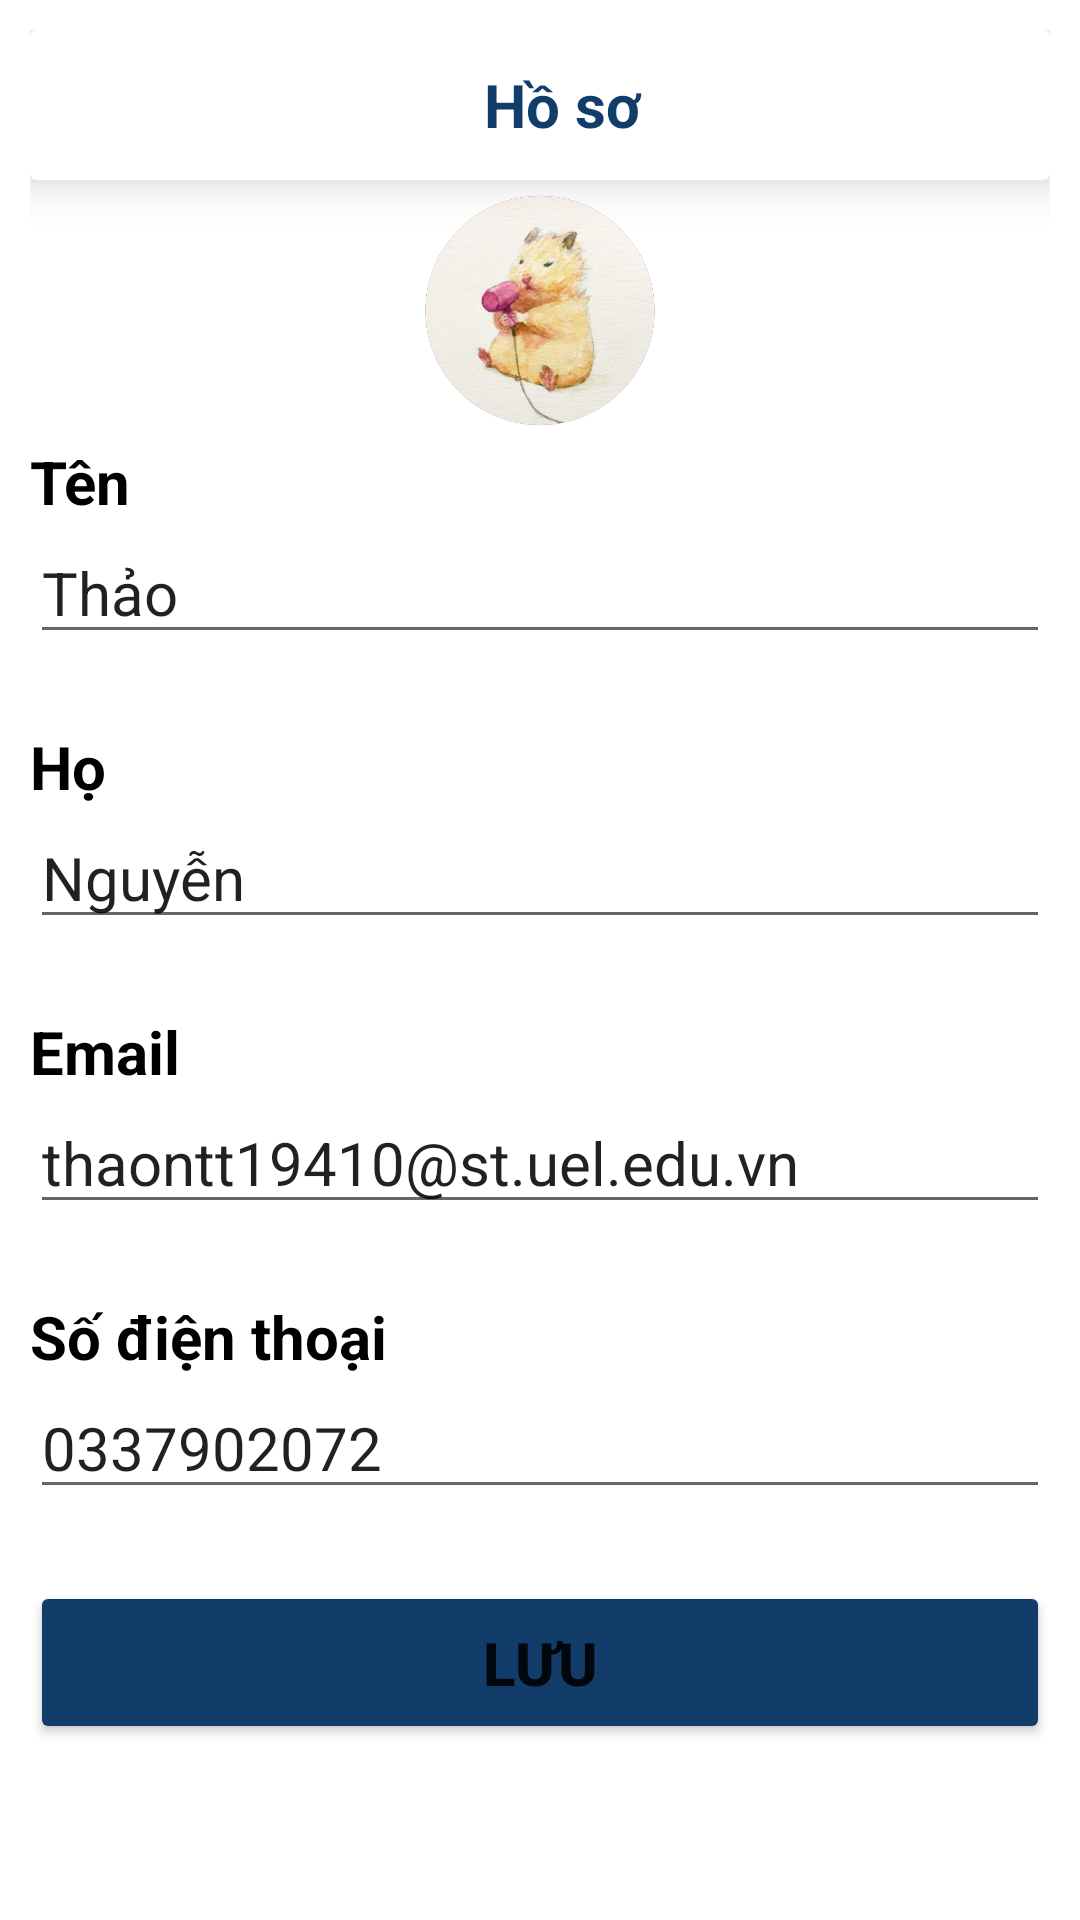

Screen size 1080px x 1920px. Icon name, then its center in pixels as [x,y]:
avt: [540,310]
